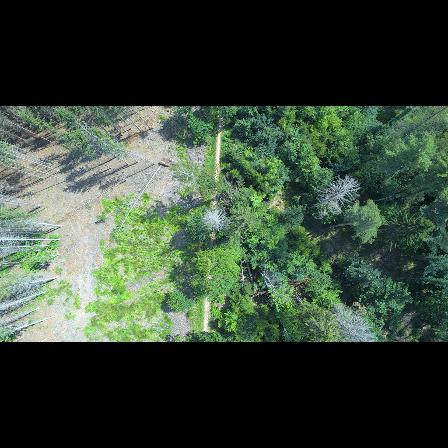Dead: (310, 174, 362, 222), (326, 300, 378, 343), (200, 203, 231, 235)
